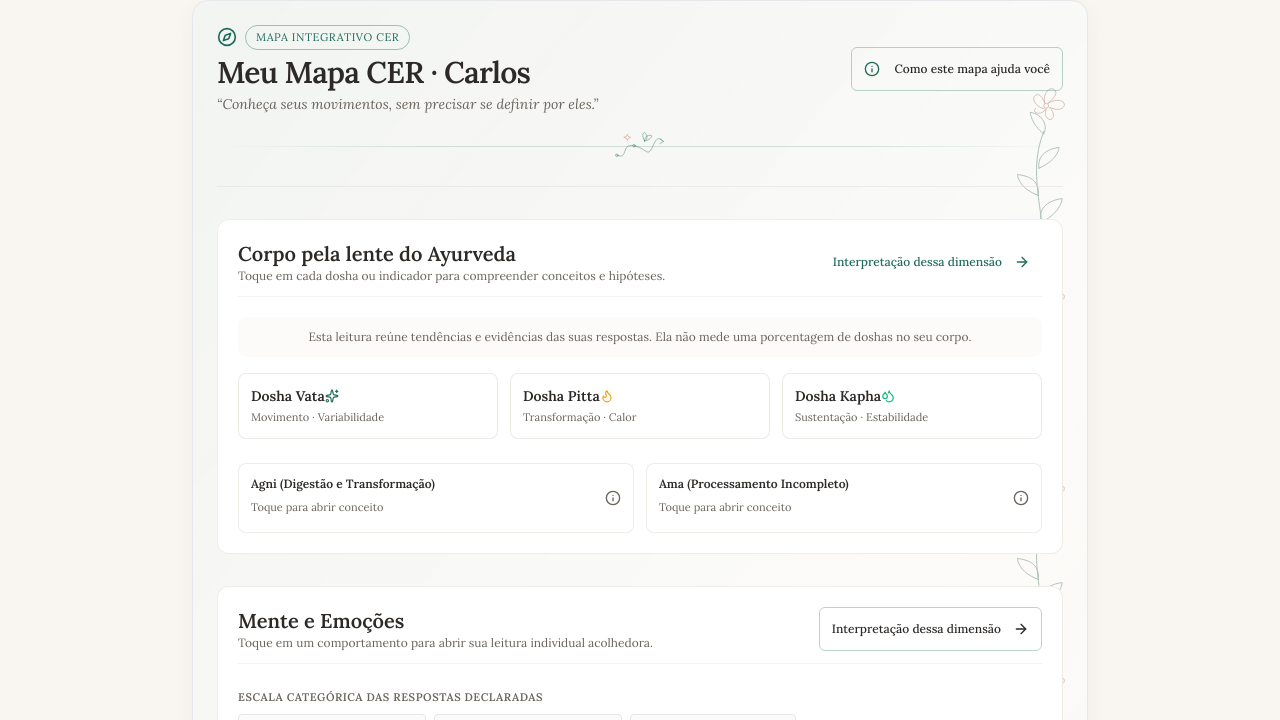
Test: Mapa CER: percurso de leitura e teclado › mapa de outra pessoa preserva seus registros sem receber a leitura fictícia de Mariana
Click the button with aria-label "Interpretação dessa dimensão: Corpo" at (931,262), box x1=821 y1=240 x2=1042 y2=284
(page scrolled)
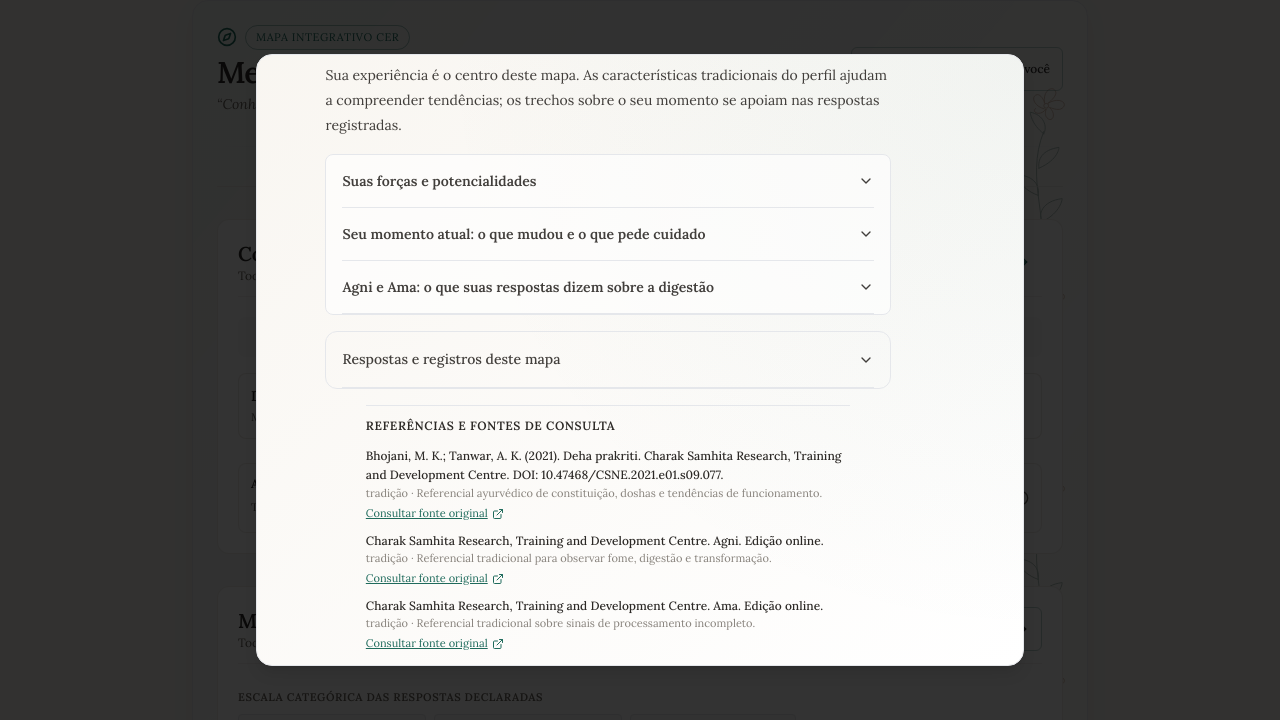
Click the button "Respostas e registros deste mapa" at (451,359), box x1=342 y1=332 x2=874 y2=387
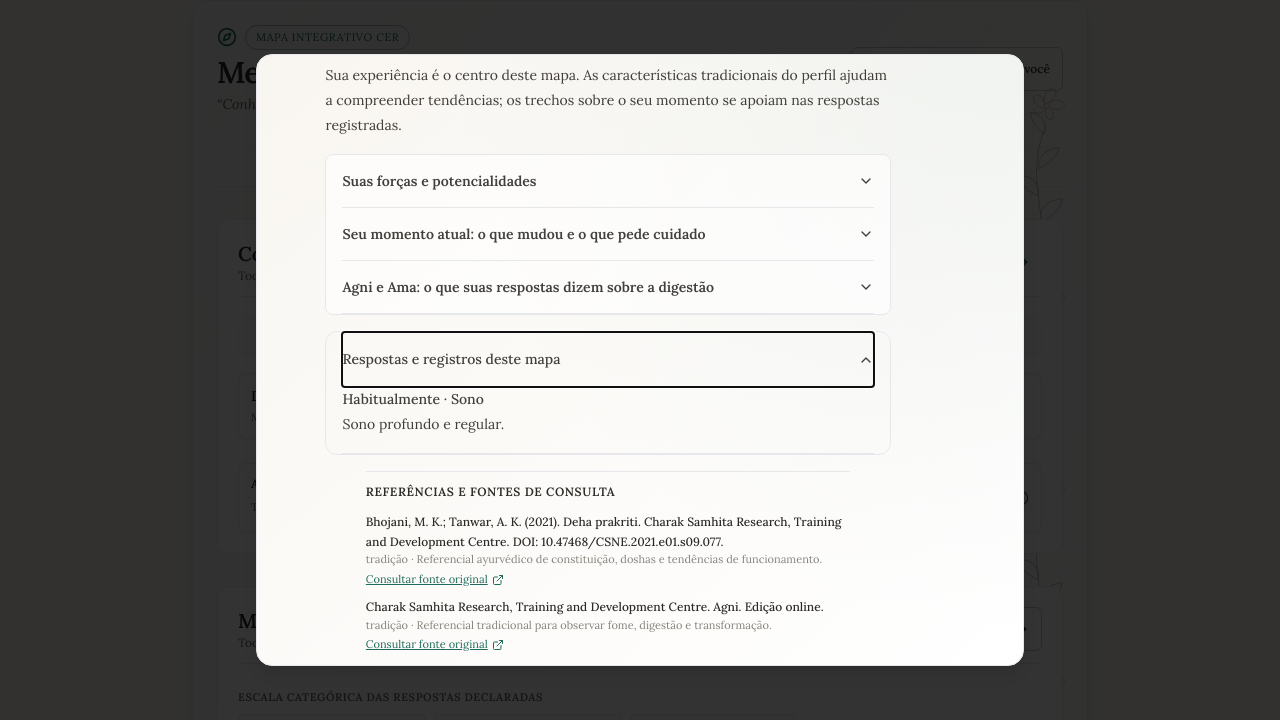
Now the text "Sono profundo e regular." is shown, box x1=342 y1=415 x2=504 y2=433
